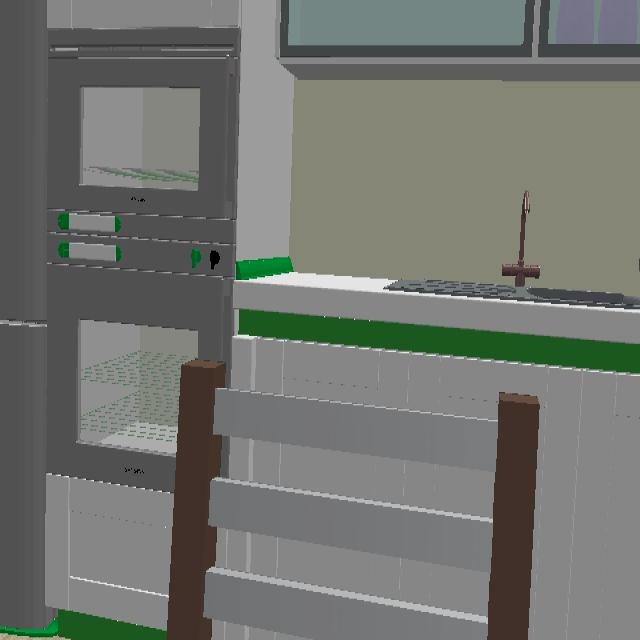cabinet: (61, 0, 640, 261)
chair: (167, 360, 540, 640)
countertop: (235, 273, 640, 373)
microwave: (48, 28, 241, 245)
oven: (47, 240, 230, 497)
sink: (383, 191, 640, 307)
